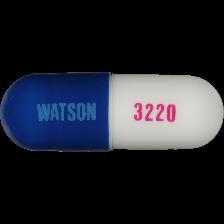0591-3220: (0, 0, 224, 224)
